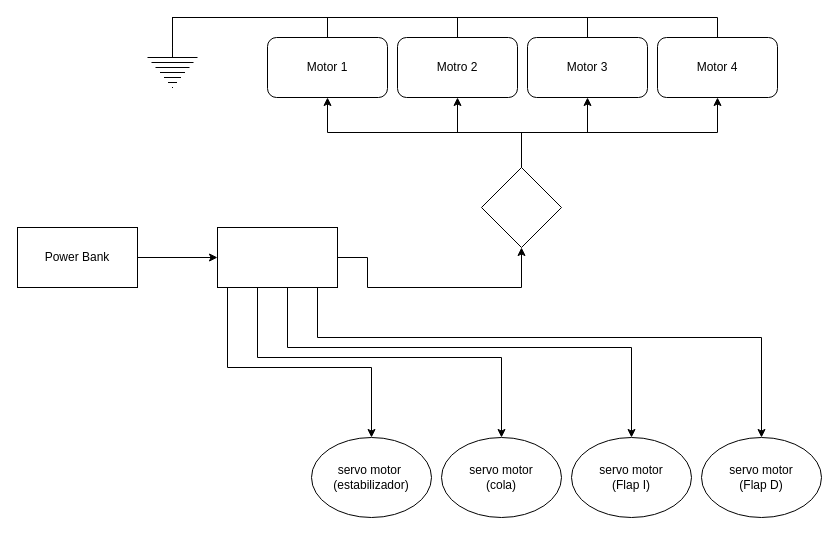
Image size: 839x535. Some labels were removed from this diagram. Here are the shapes that lost their labels. From the top down, the centre of each, then its label:
At pixel 521 207: "L293D".
At pixel 277 257: "ESP32".
